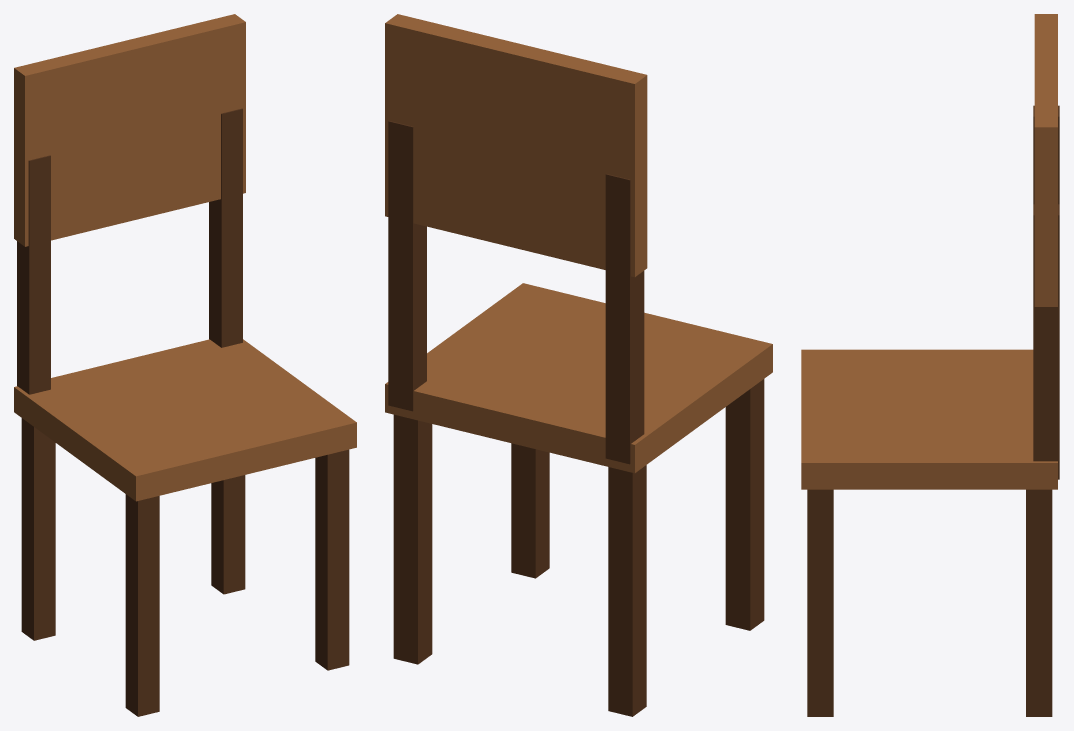
Rendered from chair.obj.
The picture shows the model from 3 angles, left to right: view 1: azimuth 30°, elevation 25°; view 2: azimuth 150°, elevation 25°; view 3: azimuth 270°, elevation 25°; orthographic projection. The views are drawn at different scales.
Bounding box in the file's own units: 0.46 × 1.12 × 0.4425.
